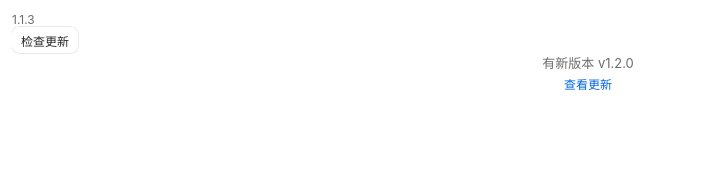
settings show manual results and the backend version in zh
Later steps or results of the test are not shown.
Expected: the text with class "brand-version" reads "1.1.3", [12,12,35,27]
Click the button "查看更新". click: (588, 84)
box: [564,75,612,92]
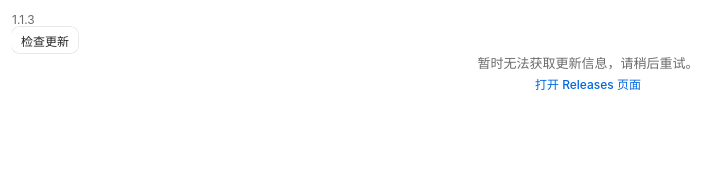
Expected: the button "打开 Releases 页面" is shown, [535,75,641,92]
Expected: the text "暂时无法获取更新信息，请稍后重试。" is shown, [478,53,698,72]
